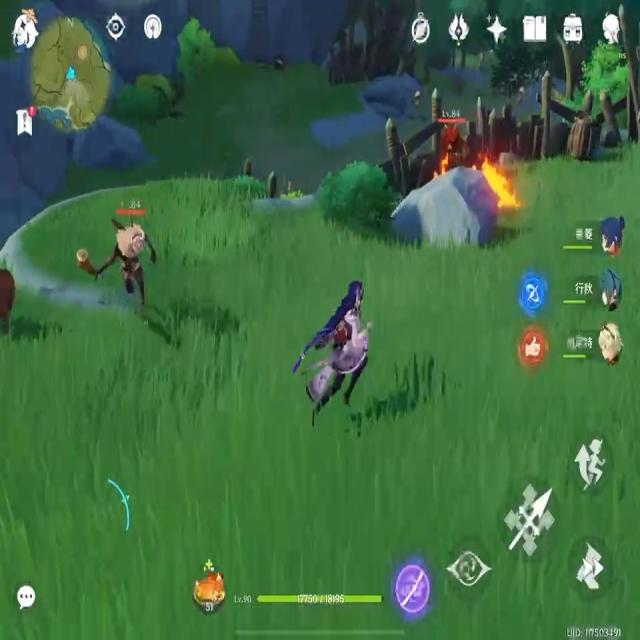genshin-hilichurls: (90, 198, 159, 313), (434, 107, 463, 166)
